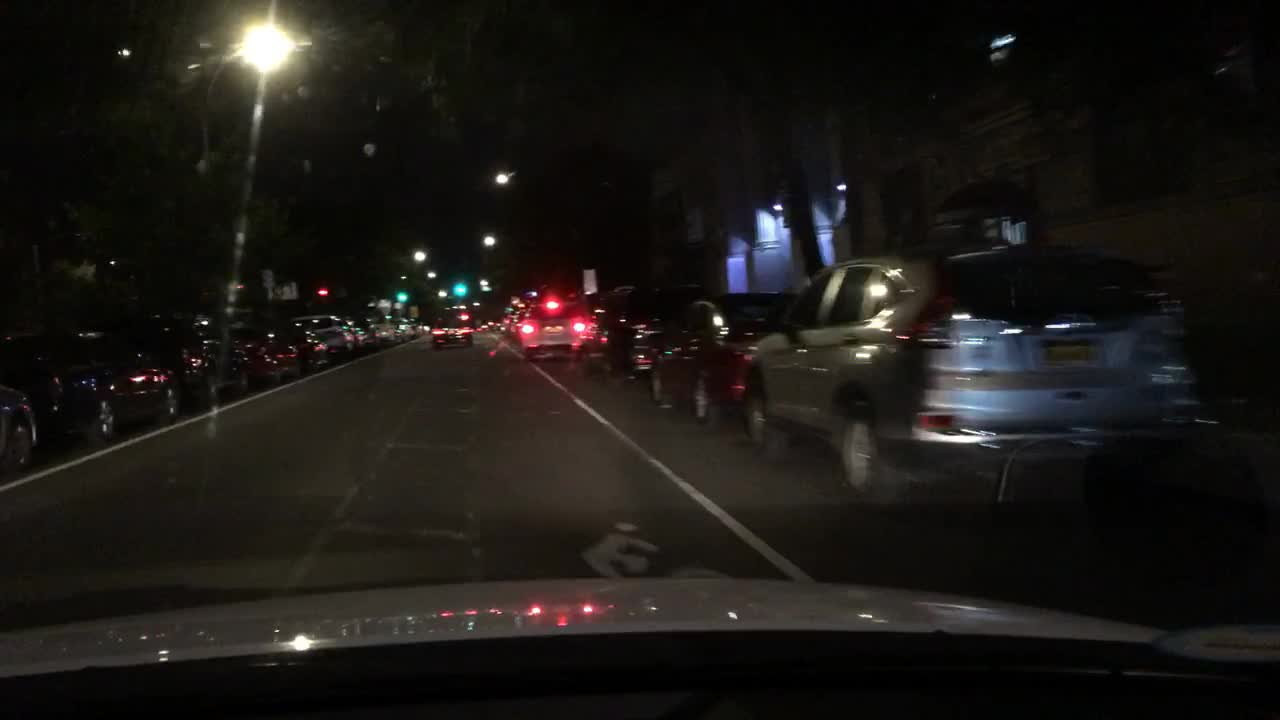car: (739, 230, 1221, 507), (0, 326, 183, 447), (645, 292, 797, 428), (130, 310, 249, 408), (579, 283, 690, 381), (231, 326, 312, 385), (516, 292, 590, 356), (1, 379, 39, 481), (298, 313, 374, 359), (427, 304, 477, 349), (354, 310, 394, 341), (503, 307, 527, 341), (389, 316, 417, 338), (412, 316, 430, 333), (495, 313, 510, 332)
traffic light: (457, 279, 466, 298), (395, 290, 404, 304), (318, 286, 328, 298)
traffic sign: (581, 267, 595, 295)
